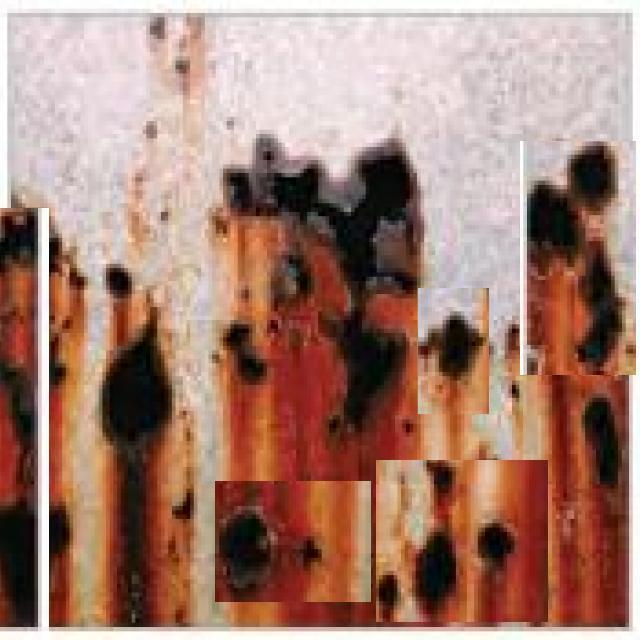Corrosion: (4, 13, 631, 629)
